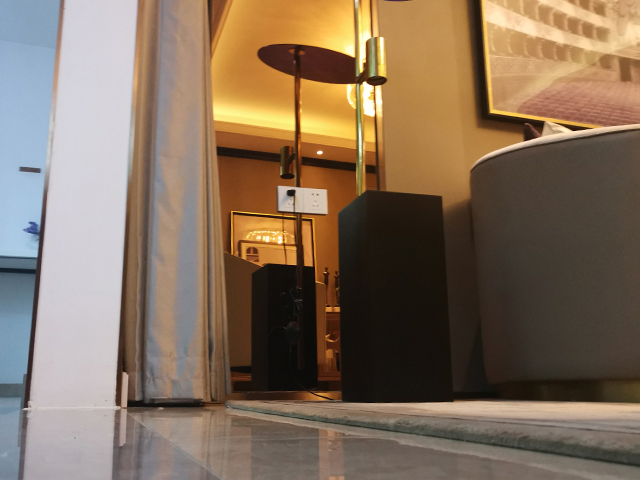carpet: (225, 396, 639, 468)
curtain: (120, 1, 234, 409)
sofa: (468, 118, 640, 404)
wire: (306, 390, 336, 401)
